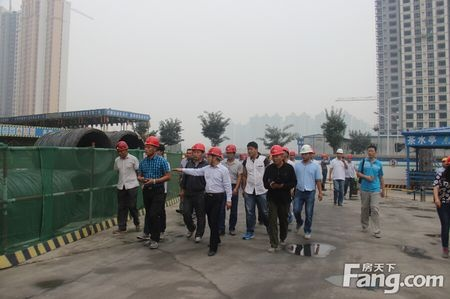none: (244, 140, 259, 157), (365, 143, 377, 157)
red: (142, 136, 160, 157), (205, 147, 223, 165), (269, 144, 284, 164), (191, 143, 206, 159), (223, 144, 237, 160), (114, 142, 128, 155), (288, 150, 296, 160)
white: (298, 145, 312, 161), (334, 148, 344, 159)
